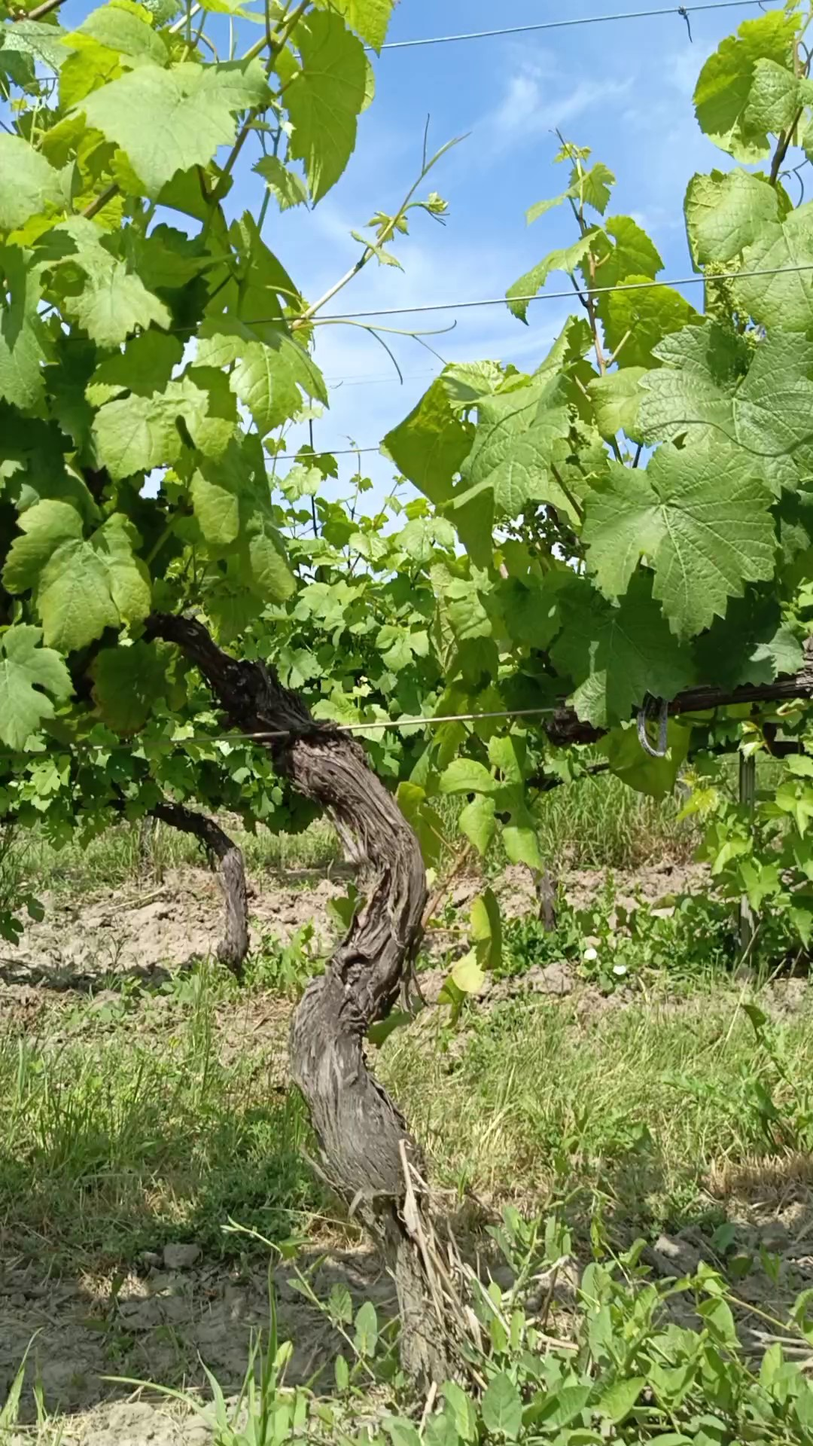vine_trunk: (148, 613, 451, 1380)
